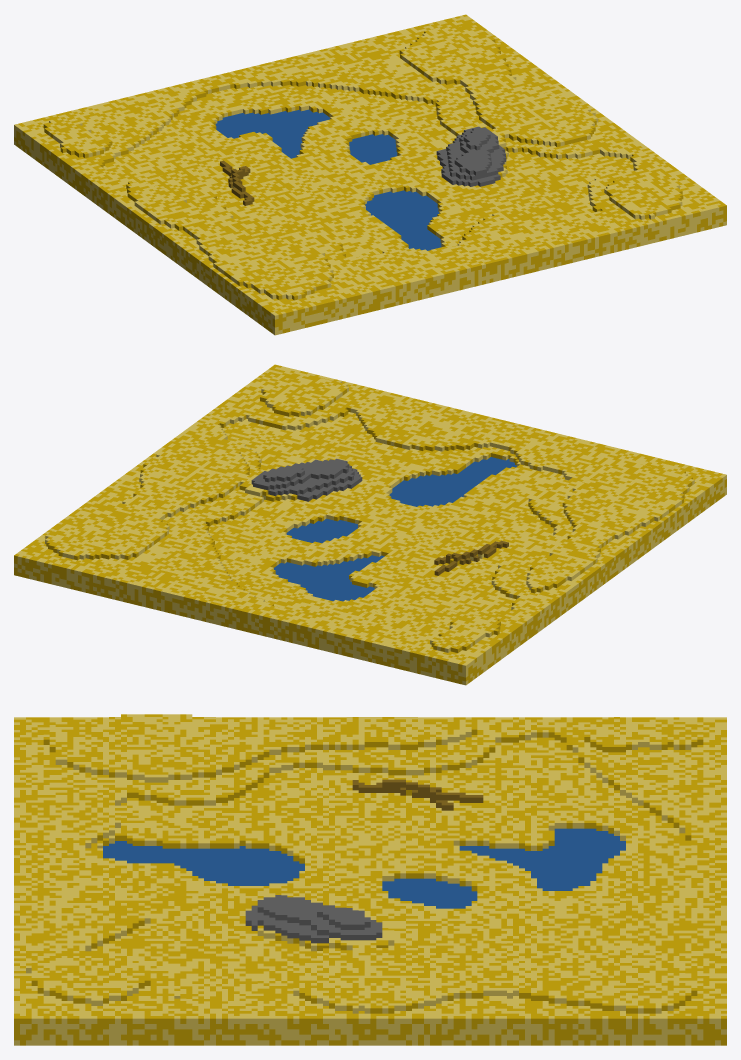
Rendered from sand_asset_2.obj.
The picture shows the model from 3 angles, top to bottom: view 1: azimuth 30°, elevation 25°; view 2: azimuth 150°, elevation 25°; view 3: azimuth 270°, elevation 25°; orthographic projection. The views are drawn at different scales.
Size of the model in its own units: 12 by 0.8 by 12.
Materials: 1 (1 with a texture image).
